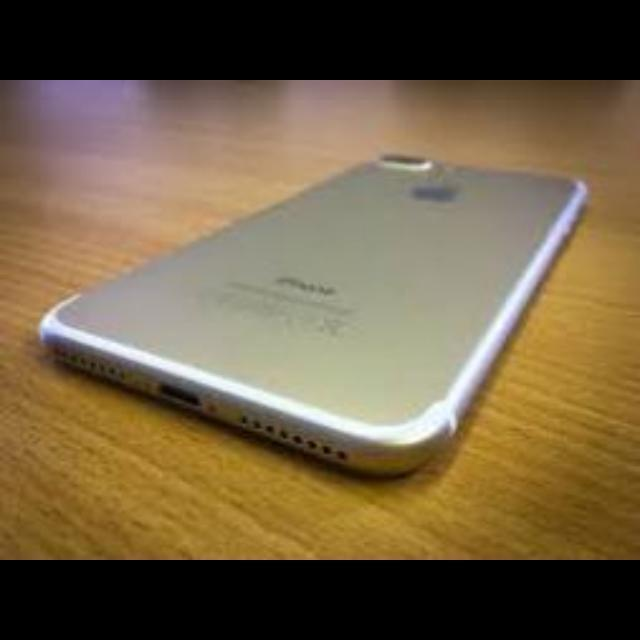phone: (18, 99, 600, 508)
